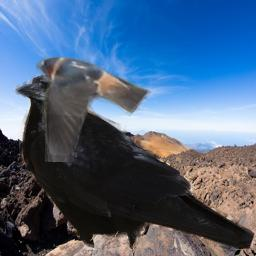Crow: (13, 73, 256, 250)
Swallow: (36, 52, 152, 162)
